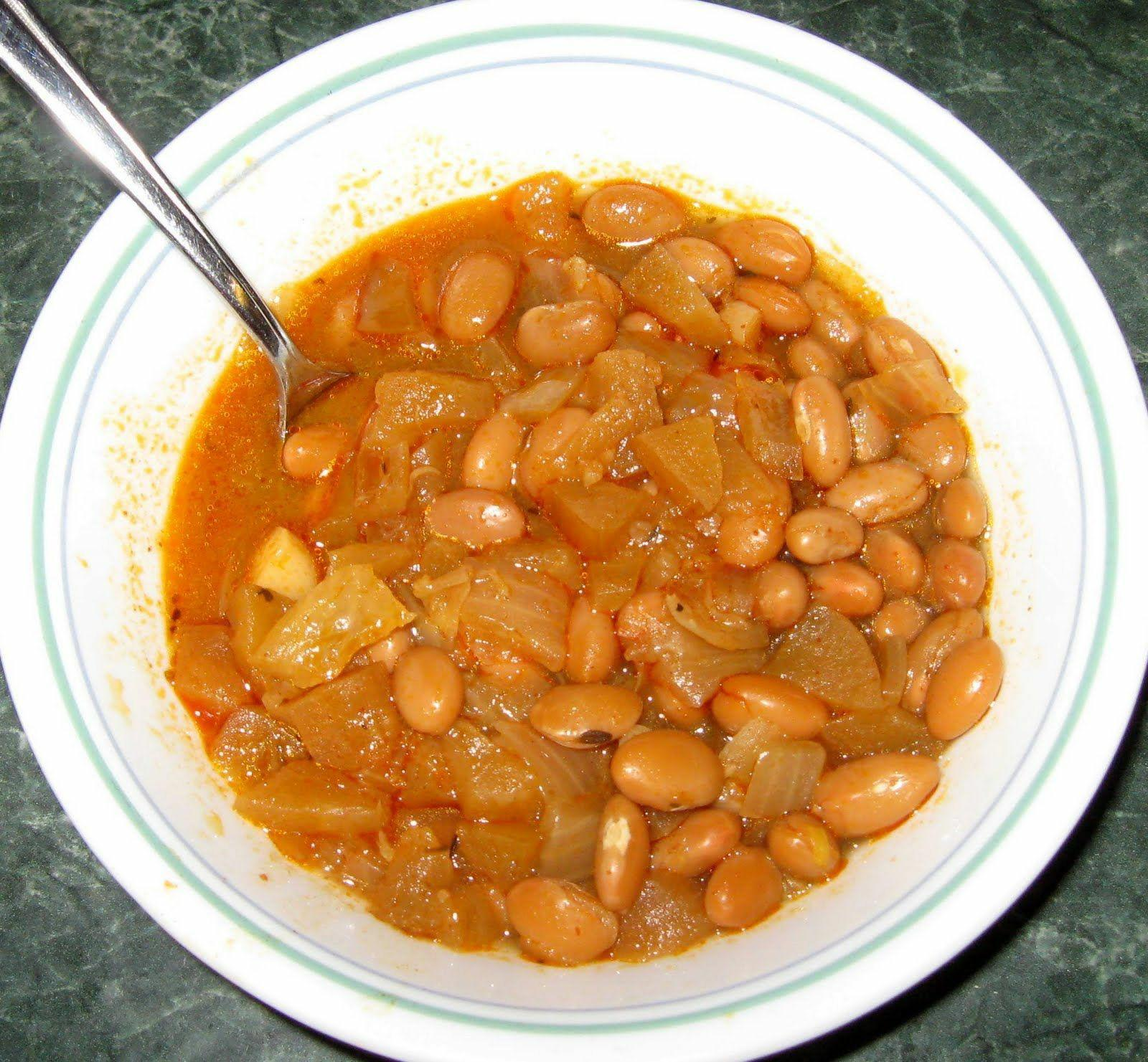RajmaCurry: (164, 176, 1005, 977)
